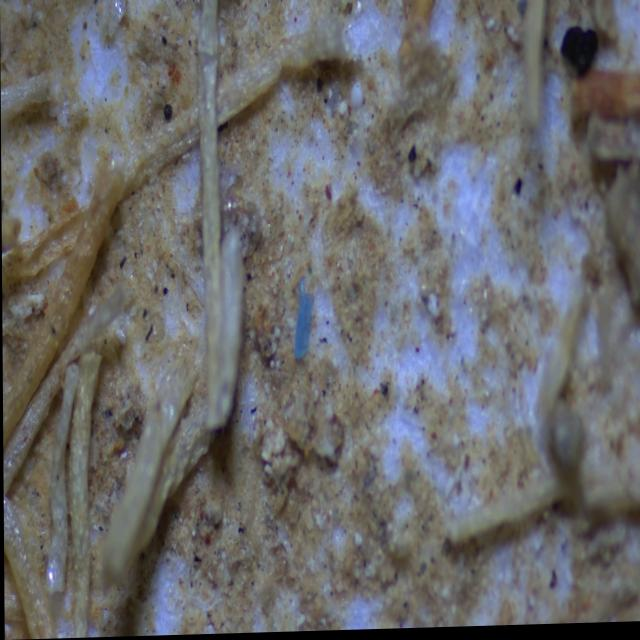microplastic: (291, 276, 320, 366)
